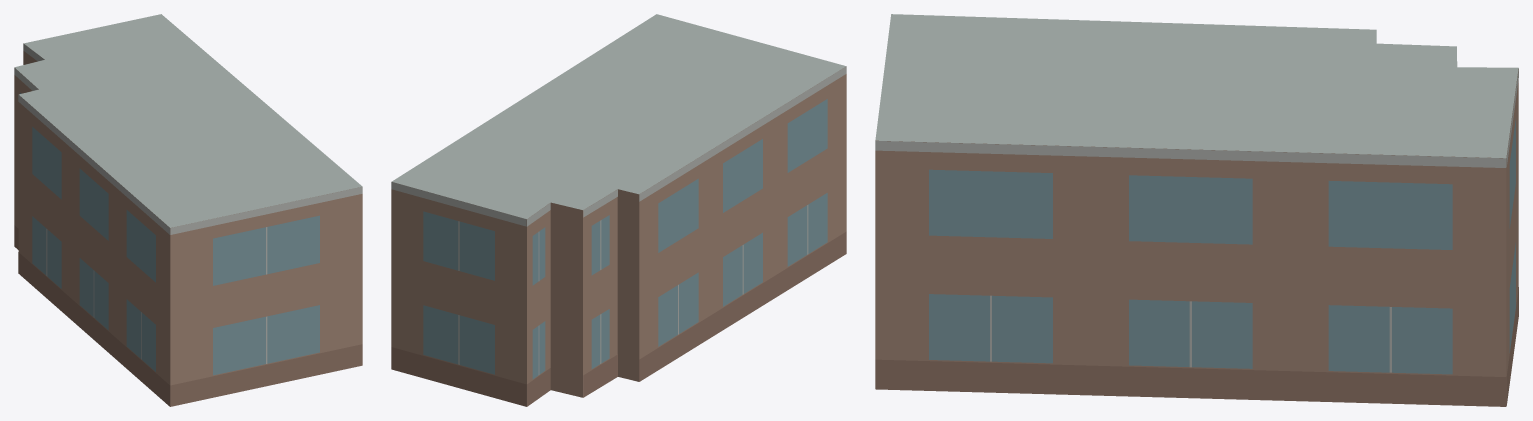
The model's file is survey-upis-32604040.glb.
The picture shows the model from 3 angles, left to right: view 1: azimuth 30°, elevation 25°; view 2: azimuth 150°, elevation 25°; view 3: azimuth 270°, elevation 25°; orthographic projection. The views are drawn at different scales.
Visible parts, largest first — view 1: survey-upis-32604040.tmp; view 2: survey-upis-32604040.tmp; view 3: survey-upis-32604040.tmp.
Boxes of the visible parts, x1,y1,x2,y2 form: survey-upis-32604040.tmp: (14,14,362,406); survey-upis-32604040.tmp: (391,14,846,406); survey-upis-32604040.tmp: (875,14,1518,406).
Size of the model in its own units: 7.6 by 6.1 by 14.32.
